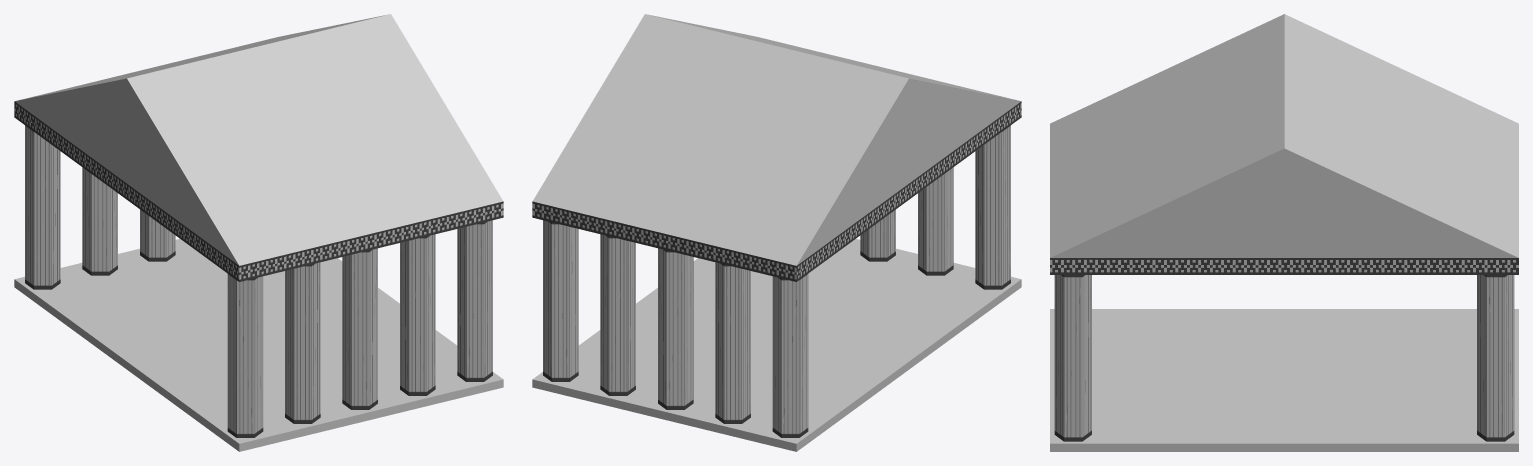
The model's file is Temple.fbx.
The picture shows the model from 3 angles, left to right: view 1: azimuth 30°, elevation 25°; view 2: azimuth 150°, elevation 25°; view 3: azimuth 270°, elevation 25°; orthographic projection. The views are drawn at different scales.
Visible parts, largest first — view 1: 실린더; view 2: 실린더; view 3: 실린더.
Boxes of the visible parts, box(x1,y1,x2,y2) form: 실린더: box(14, 14, 503, 451); 실린더: box(532, 14, 1021, 451); 실린더: box(1050, 14, 1518, 451).
Bounding box in the file's own units: 3418 × 3600 × 5040.
1 material, 1 textured.
